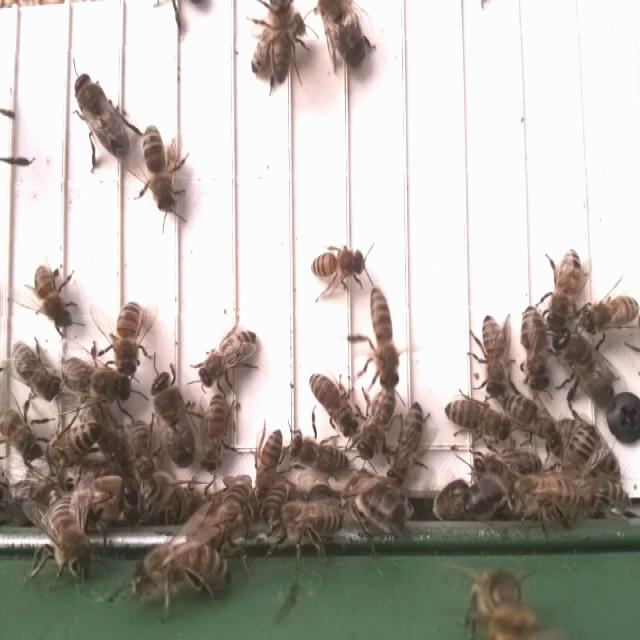Drone: (74, 70, 134, 161), (554, 327, 616, 412), (150, 368, 198, 472), (318, 0, 370, 76), (60, 353, 134, 406)
Worker: (198, 328, 262, 390), (385, 399, 426, 485), (368, 286, 400, 395), (443, 393, 511, 444), (142, 120, 178, 214), (520, 300, 553, 401), (308, 370, 355, 440), (42, 418, 105, 470), (548, 244, 584, 334), (354, 385, 397, 459), (197, 391, 234, 474), (8, 338, 56, 400), (31, 260, 74, 329), (478, 308, 510, 398), (291, 431, 349, 479), (583, 292, 640, 335), (268, 0, 296, 87), (253, 427, 287, 498), (308, 247, 367, 286), (114, 300, 142, 377)
